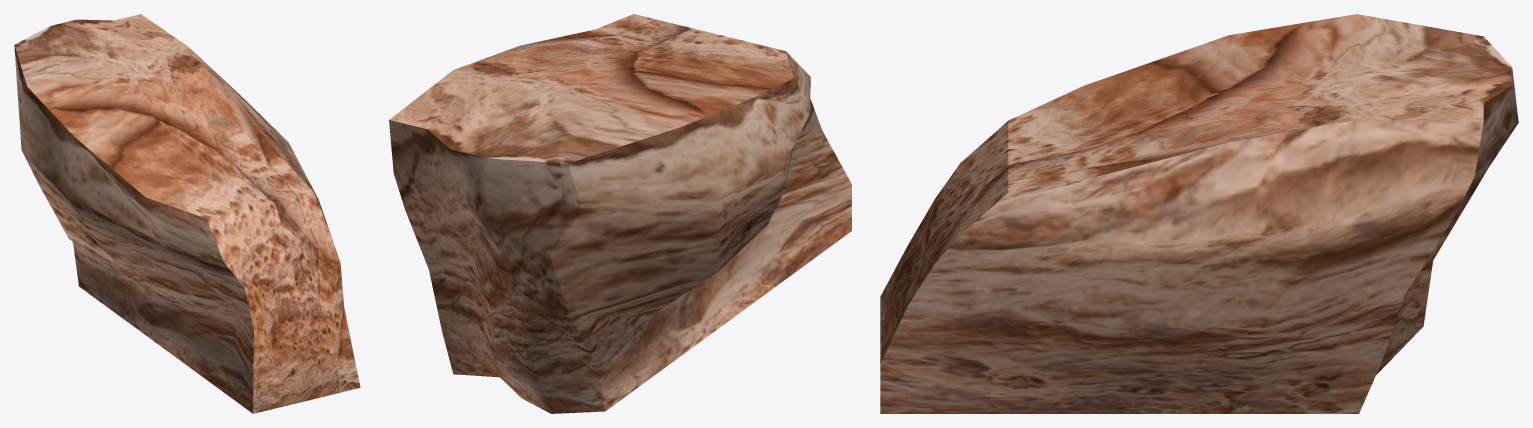
The model's file is env_model_rock_arch_02.fbx.
3 views of the same model, side by side, from view 1: azimuth 30°, elevation 25°; view 2: azimuth 150°, elevation 25°; view 3: azimuth 270°, elevation 25° (orthographic). The views are drawn at different scales.
Visible parts, largest first — view 1: pCube15; view 2: pCube15; view 3: pCube15.
Part boxes in pixels (x1=…): pCube15: x1=14, y1=14, x2=360, y2=413; pCube15: x1=389, y1=14, x2=851, y2=413; pCube15: x1=880, y1=14, x2=1518, y2=413.
Bounding box in the file's own units: 819 × 762 × 1497.
